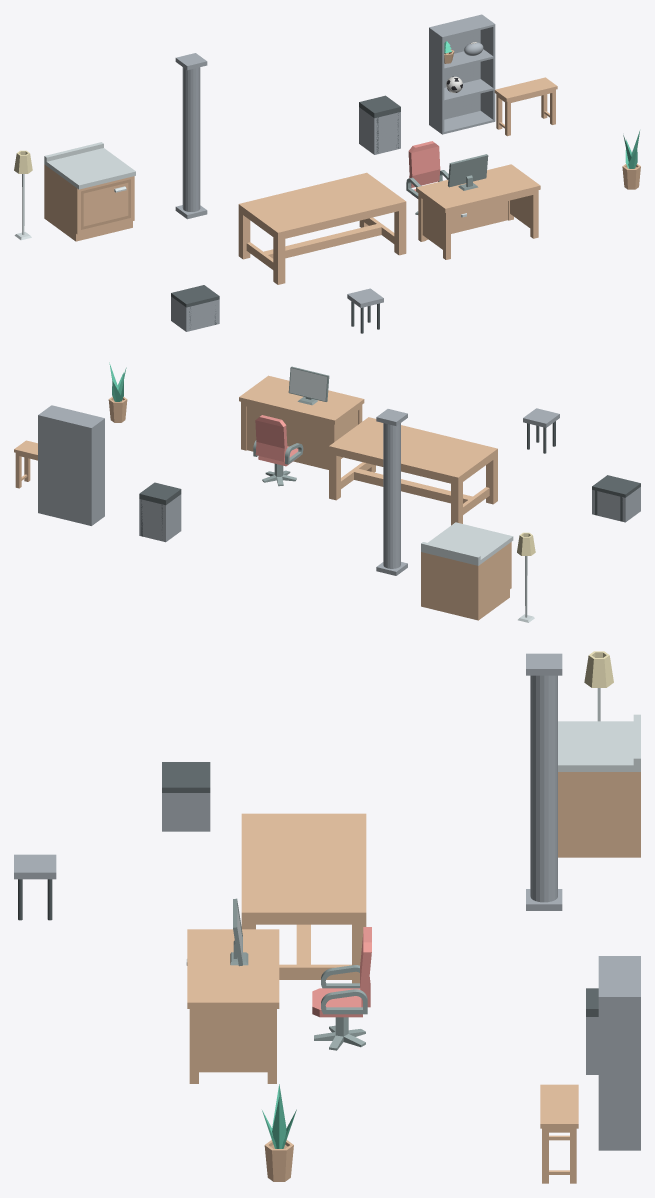
3 renders of one model, top to bottom at view 1: azimuth 30°, elevation 25°; view 2: azimuth 150°, elevation 25°; view 3: azimuth 270°, elevation 25°, orthographic. The views are drawn at different scales.
Parts seen in each view (by area): view 1: table_green__table(Clone), desk_blue__desk(Clone), cabinet_blue__kitchenCabinet(Clone), column_cyan__column_cyan shaft, cabinet_blue__door, sidetable_brown__sideTable(Clone), shelf_orange__shelf_orange back, shelf_orange__shelf_orange side_l, bin_gray__bin_gray shell, deskchair_black__chair, shelf_orange__shelf_orange side_r, crate_red__crate_red shell (+9 smaller); view 2: table_green__table(Clone), cabinet_blue__kitchenCabinet(Clone), desk_blue__desk(Clone), shelf_orange__shelf_orange back, column_cyan__column_cyan shaft, deskchair_black__chair, bin_gray__bin_gray shell, shelf_orange__shelf_orange side_l, monitor_gray__computerScreen(Clone), crate_red__crate_red shell, sidetable_brown__sideTable(Clone), crate_red__crate_red lid (+7 smaller); view 3: table_green__table(Clone), desk_blue__desk(Clone), cabinet_blue__kitchenCabinet(Clone), shelf_orange__shelf_orange side_r, column_cyan__column_cyan shaft, sidetable_brown__sideTable(Clone), deskchair_black__chair, crate_red__crate_red shell, shelf_orange__shelf_orange board3, crate_red__crate_red lid, stool_purple__stool_purple seat, lamp_white__lampRoundFloor(Clone) (+5 smaller).
Boxes of the visible parts, bbox=[...] form: table_green__table(Clone): bbox=[238, 172, 406, 284]; desk_blue__desk(Clone): bbox=[416, 164, 540, 259]; cabinet_blue__kitchenCabinet(Clone): bbox=[44, 142, 135, 241]; column_cyan__column_cyan shaft: bbox=[182, 67, 200, 211]; cabinet_blue__door: bbox=[81, 179, 130, 229]; sidetable_brown__sideTable(Clone): bbox=[494, 77, 557, 136]; shelf_orange__shelf_orange back: bbox=[431, 15, 480, 119]; shelf_orange__shelf_orange side_l: bbox=[429, 27, 444, 134]; bin_gray__bin_gray shell: bbox=[359, 107, 400, 154]; deskchair_black__chair: bbox=[406, 141, 448, 198]; shelf_orange__shelf_orange side_r: bbox=[480, 14, 495, 121]; crate_red__crate_red shell: bbox=[171, 296, 219, 331]; table_green__table(Clone): bbox=[329, 417, 497, 525]; cabinet_blue__kitchenCabinet(Clone): bbox=[421, 522, 513, 620]; desk_blue__desk(Clone): bbox=[239, 375, 364, 469]; shelf_orange__shelf_orange back: bbox=[40, 415, 89, 525]; column_cyan__column_cyan shaft: bbox=[383, 423, 400, 568]; deskchair_black__chair: bbox=[253, 415, 303, 466]; bin_gray__bin_gray shell: bbox=[139, 494, 181, 542]; shelf_orange__shelf_orange side_l: bbox=[89, 418, 104, 525]; monitor_gray__computerScreen(Clone): bbox=[288, 366, 329, 405]; crate_red__crate_red shell: bbox=[592, 487, 640, 522]; sidetable_brown__sideTable(Clone): bbox=[14, 440, 37, 488]; crate_red__crate_red lid: bbox=[592, 475, 640, 497]; table_green__table(Clone): bbox=[241, 813, 366, 983]; desk_blue__desk(Clone): bbox=[187, 929, 279, 1083]; cabinet_blue__kitchenCabinet(Clone): bbox=[558, 714, 640, 857]; shelf_orange__shelf_orange side_r: bbox=[598, 995, 640, 1150]; column_cyan__column_cyan shaft: bbox=[530, 675, 557, 902]; sidetable_brown__sideTable(Clone): bbox=[540, 1084, 578, 1183]; deskchair_black__chair: bbox=[312, 927, 371, 1017]; crate_red__crate_red shell: bbox=[162, 793, 210, 831]; shelf_orange__shelf_orange board3: bbox=[598, 957, 638, 995]; crate_red__crate_red lid: bbox=[162, 762, 210, 792]; stool_purple__stool_purple seat: bbox=[14, 854, 56, 879]; lamp_white__lampRoundFloor(Clone): bbox=[584, 651, 613, 721].
Bounding box in the file's own units: 7.86 × 2.2 × 5.17.
